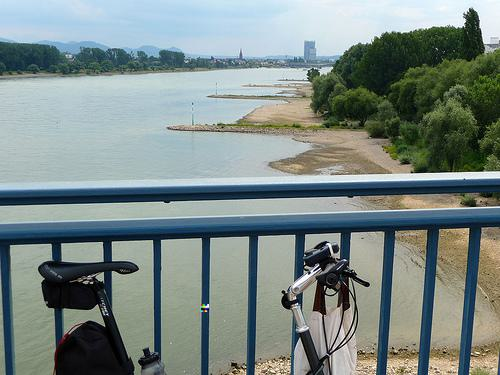car: (40, 242, 371, 375)
